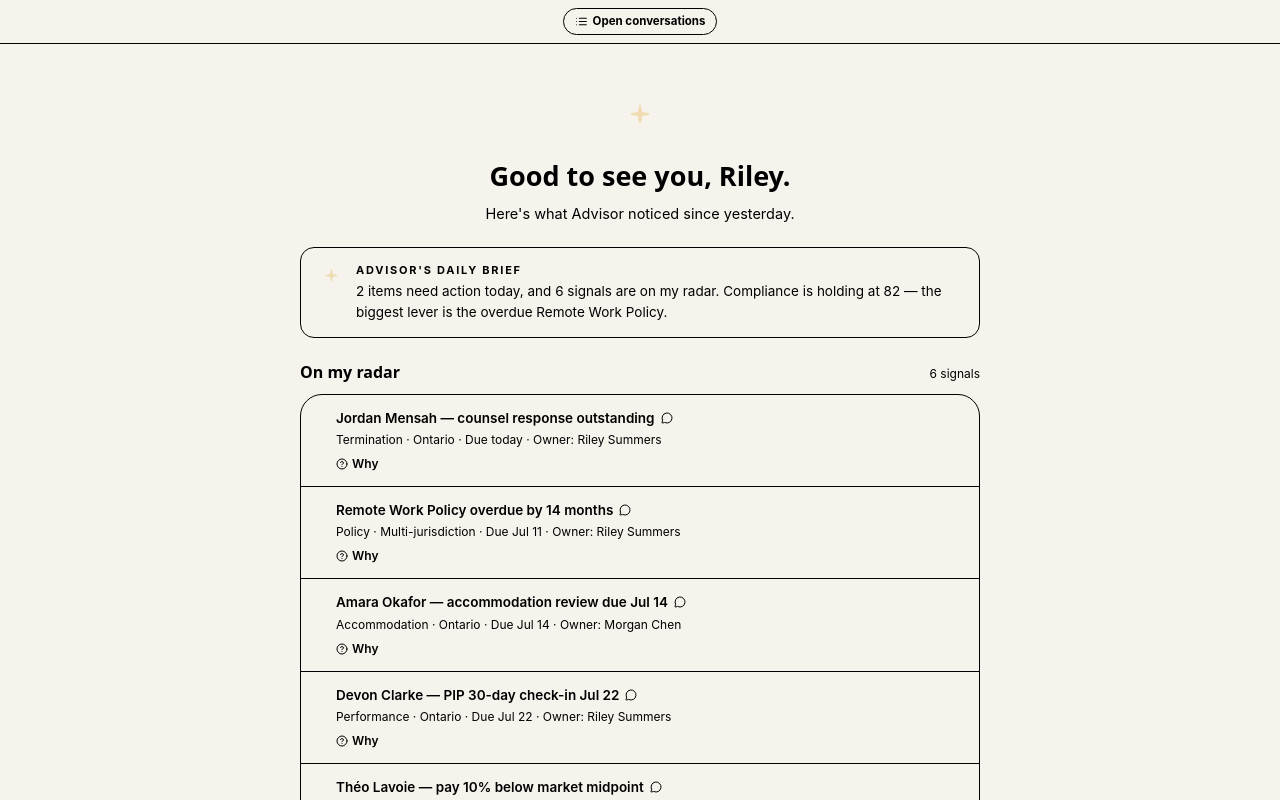
Scenario: AdvisorView › toggles a priority "Why" expander
Click the 1st button "Why" at (357, 464), box [336,455,378,473]
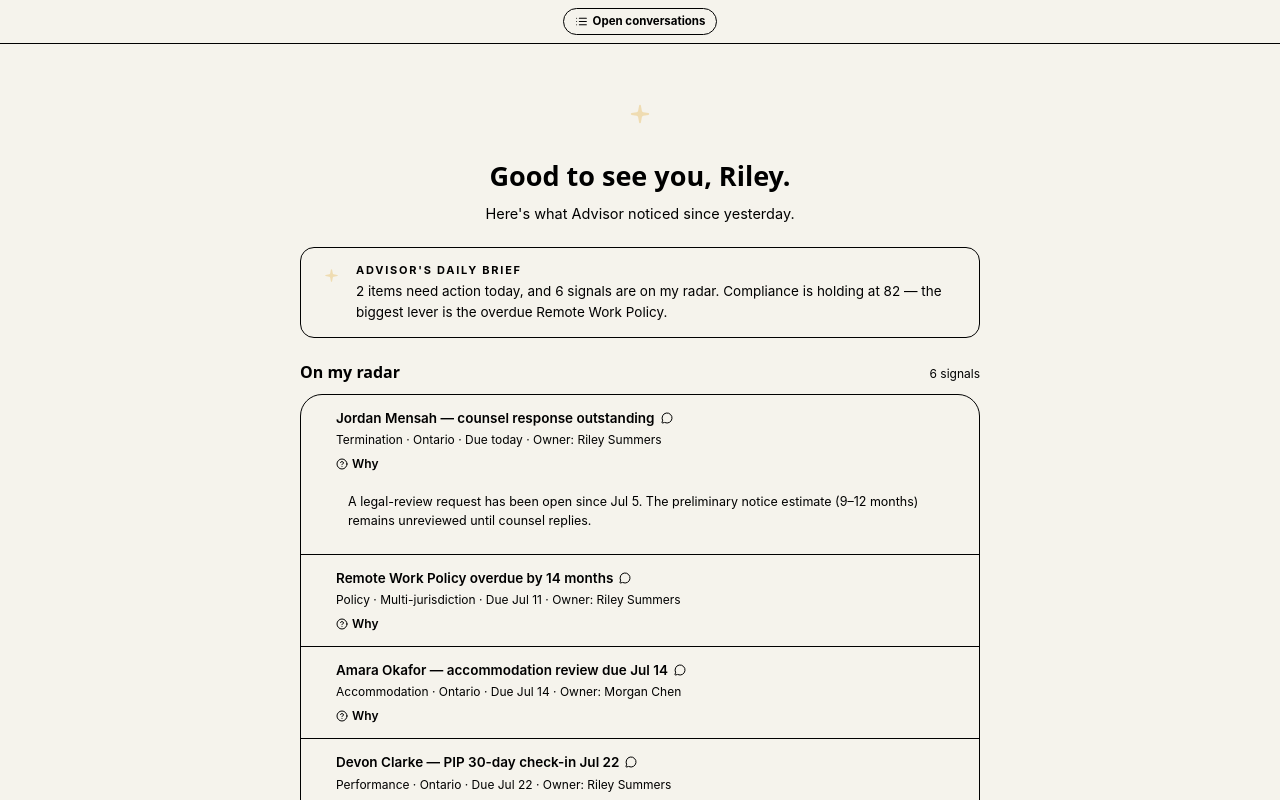
Result: the text "A legal-review request has been open since Jul 5" is shown at [348,494,918,528]
